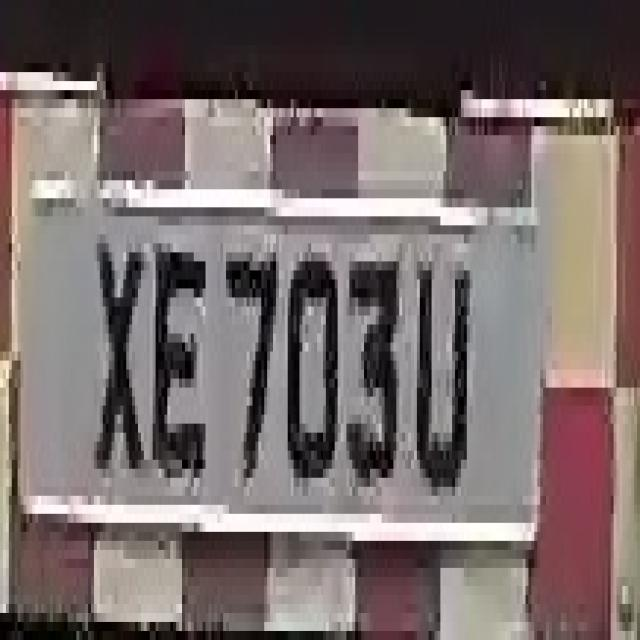0: (279, 216, 343, 478)
3: (344, 207, 405, 478)
7: (220, 198, 279, 487)
E: (150, 216, 206, 523)
U: (411, 234, 476, 505)
X: (91, 171, 147, 559)
